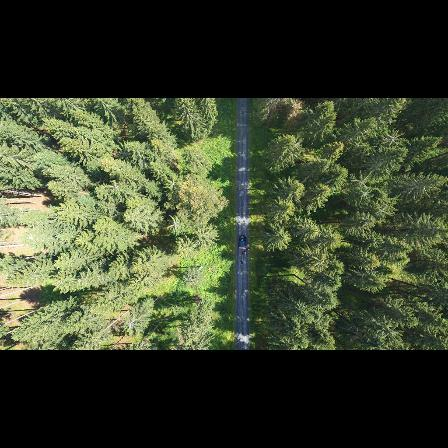Sick: (165, 211, 187, 236), (382, 126, 404, 150), (352, 170, 371, 192), (356, 186, 374, 203)
